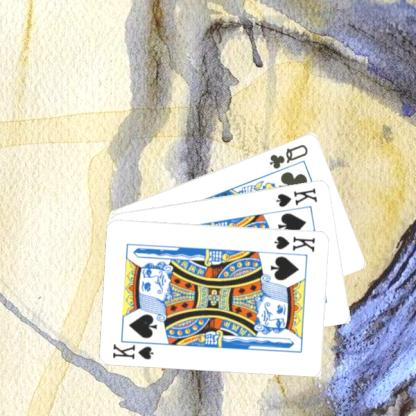KS: (110, 336, 160, 361), (273, 184, 319, 208), (271, 232, 317, 253)
QC: (266, 141, 310, 170)
